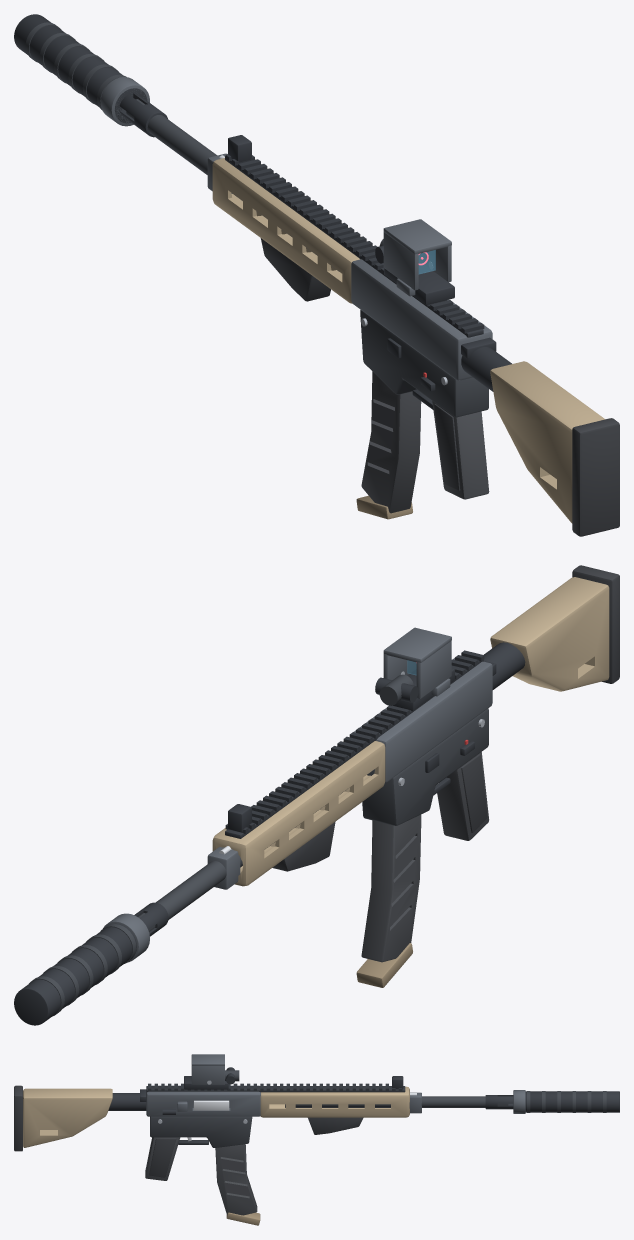
Rendered from rifle_hk416.glb.
The picture shows the model from 3 angles, top to bottom: view 1: azimuth 30°, elevation 25°; view 2: azimuth 150°, elevation 25°; view 3: azimuth 270°, elevation 25°; orthographic projection. The views are drawn at different scales.
Parts seen in each view (by area): view 1: SOPMOD_Stock, MLOK_Handguard, UpperReceiver, PMAG_Body, RubberButtpad, LowerReceiver, SupBody, PistolGrip, HK_Barrel, AngledForegrip, Holo_Top, GripStipple (+7 smaller); view 2: SOPMOD_Stock, MLOK_Handguard, PMAG_Body, UpperReceiver, LowerReceiver, SupBody, PistolGrip, HK_Barrel, RubberButtpad, Holo_Top, GripStipple, Holo_WallL (+7 smaller); view 3: SOPMOD_Stock, MLOK_Handguard, LowerReceiver, UpperReceiver, PMAG_Body, SupBody, HK_Barrel, TopRail_Base, AngledForegrip, GripStipple, Holo_WallR, RubberButtpad (+9 smaller).
Boxes of the visible parts, x1,y1,x2,y2 form: SOPMOD_Stock: (490, 361, 604, 523); MLOK_Handguard: (212, 158, 360, 303); UpperReceiver: (351, 259, 492, 380); PMAG_Body: (361, 371, 421, 513); RubberButtpad: (572, 418, 619, 536); LowerReceiver: (360, 310, 488, 417); SupBody: (14, 14, 147, 123); PistolGrip: (432, 401, 489, 499); HK_Barrel: (126, 99, 338, 271); AngledForegrip: (260, 238, 330, 301); Holo_Top: (383, 219, 451, 254); GripStipple: (434, 404, 460, 490); SOPMOD_Stock: (490, 577, 609, 691); MLOK_Handguard: (212, 741, 385, 886); PMAG_Body: (361, 814, 421, 962); UpperReceiver: (353, 658, 492, 782); LowerReceiver: (362, 708, 488, 825); SupBody: (14, 923, 136, 1025); PistolGrip: (437, 752, 489, 840); HK_Barrel: (138, 790, 345, 931); RubberButtpad: (572, 565, 619, 683); Holo_Top: (383, 627, 451, 662); GripStipple: (461, 754, 487, 832); Holo_WallL: (416, 641, 451, 698); SOPMOD_Stock: (23, 1088, 112, 1147); MLOK_Handguard: (260, 1086, 409, 1117); LowerReceiver: (150, 1116, 252, 1147); UpperReceiver: (146, 1085, 260, 1116); PMAG_Body: (215, 1144, 257, 1215); SupBody: (525, 1091, 619, 1112); HK_Barrel: (285, 1096, 508, 1107); TopRail_Base: (146, 1086, 405, 1092); AngledForegrip: (308, 1117, 363, 1134); GripStipple: (149, 1138, 176, 1177); Holo_WallR: (191, 1066, 224, 1084); RubberButtpad: (14, 1085, 22, 1151).
Size of the model in its own units: 0.059 by 0.3559 by 1.19.
